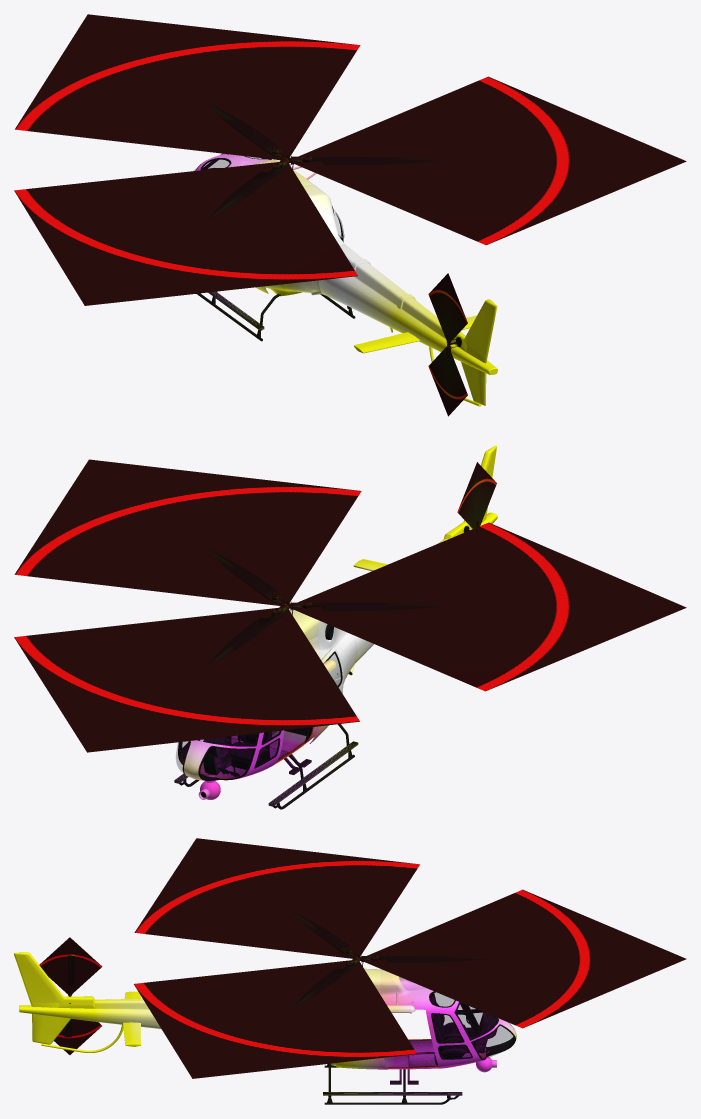
The model's file is polmav.glb.
3 renders of one model, top to bottom at view 1: azimuth 30°, elevation 25°; view 2: azimuth 150°, elevation 25°; view 3: azimuth 270°, elevation 25°, orthographic. The views are drawn at different scales.
Visible parts, largest first — view 1: rotor_main_fast, tail, rotor_rear_fast, rotor_main_slow, bodyshell, suspension_lf; view 2: rotor_main_fast, bodyshell, chassis, rotor_main_slow, rotor_rear_fast, misc_b, tail, suspension_lf, door_dside_f; view 3: rotor_main_fast, tail, bodyshell, chassis, rotor_rear_fast, rotor_main_slow, suspension_rf, door_pside_f, windscreen_r, misc_a, window_rf.
Part boxes in pixels (bbox=[...]): rotor_main_fast: bbox=[14, 14, 686, 305]; tail: bbox=[319, 244, 497, 406]; rotor_rear_fast: bbox=[428, 273, 467, 416]; rotor_main_slow: bbox=[209, 104, 443, 217]; bodyshell: bbox=[195, 153, 344, 296]; suspension_lf: bbox=[196, 291, 280, 341]; rotor_main_fast: bbox=[14, 459, 686, 752]; bodyshell: bbox=[182, 609, 357, 782]; chassis: bbox=[178, 624, 340, 780]; rotor_main_slow: bbox=[209, 549, 442, 663]; rotor_rear_fast: bbox=[457, 462, 496, 531]; misc_b: bbox=[201, 748, 252, 779]; tail: bbox=[353, 445, 497, 663]; suspension_lf: bbox=[268, 724, 358, 809]; door_dside_f: bbox=[246, 730, 284, 776]; rotor_main_fast: bbox=[134, 838, 686, 1078]; tail: bbox=[14, 952, 161, 1052]; bodyshell: bbox=[331, 968, 516, 1084]; chassis: bbox=[384, 992, 515, 1068]; rotor_rear_fast: bbox=[39, 937, 102, 1054]; rotor_main_slow: bbox=[294, 912, 485, 1005]; suspension_rf: bbox=[323, 1063, 462, 1104]; door_pside_f: bbox=[426, 1012, 477, 1067]; windscreen_r: bbox=[457, 1003, 496, 1037]; misc_a: bbox=[474, 1026, 514, 1058]; window_rf: bbox=[433, 1015, 461, 1041].
Size of the model in its own units: 12.28 by 3.41 by 14.5.
11 materials, 11 textured.
